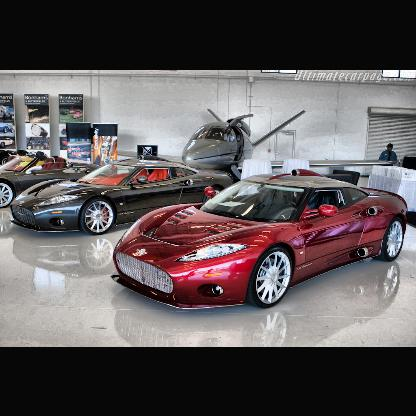Spyker C8 Coupe 2009: (110, 167, 411, 315)
